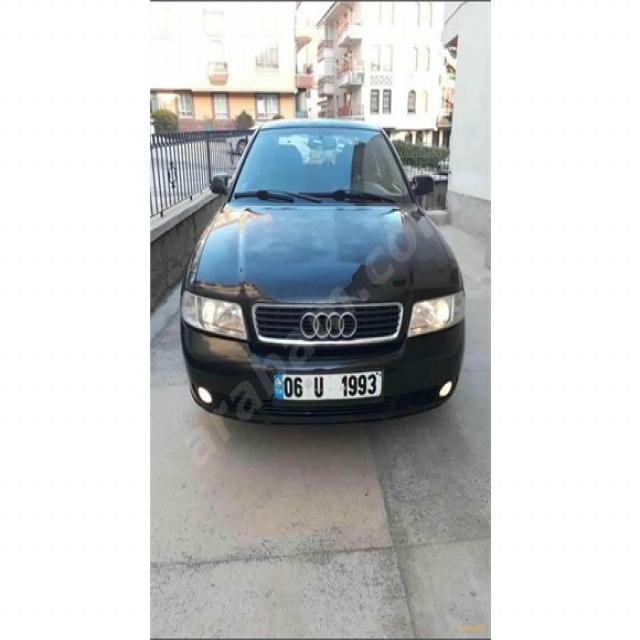plate: (272, 369, 384, 404)
